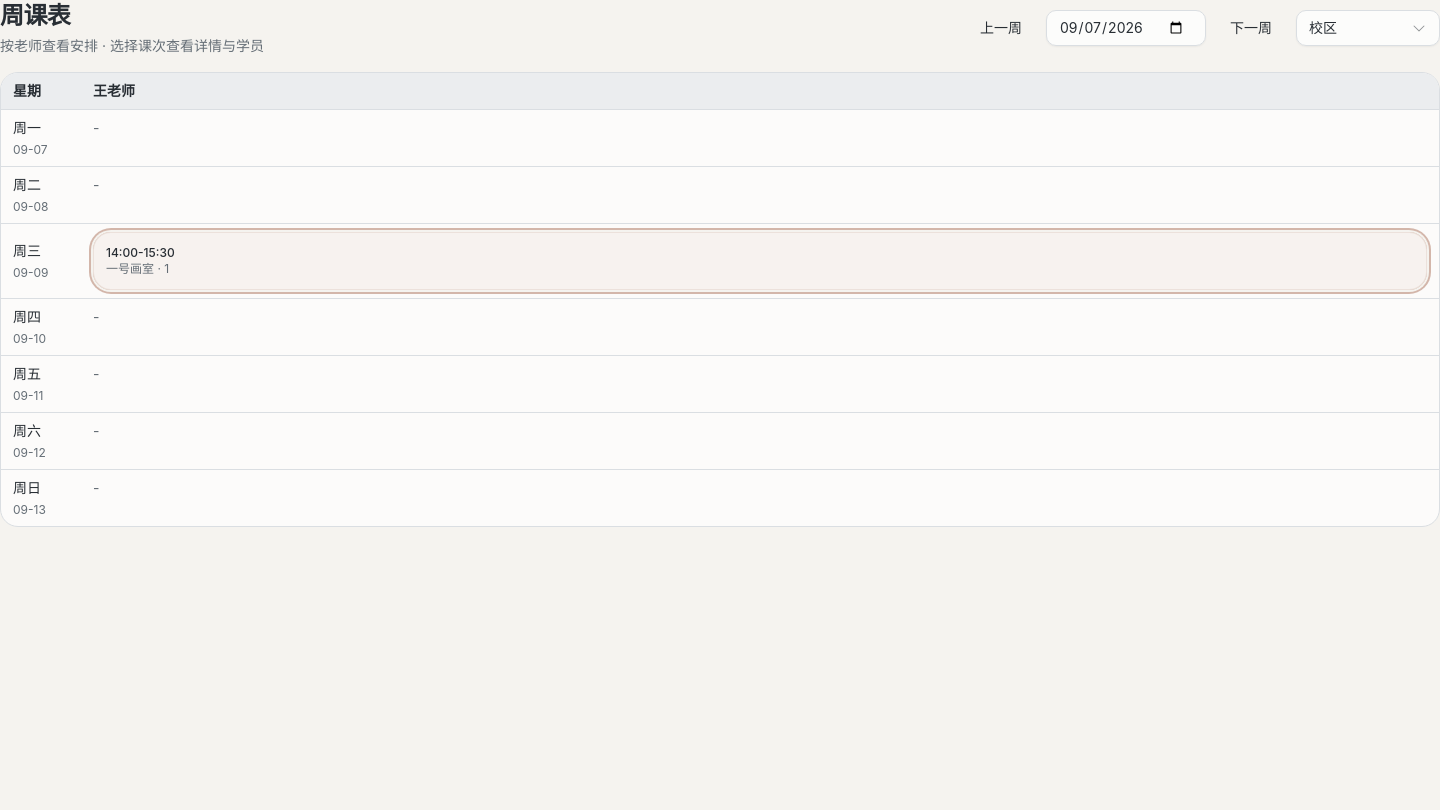
Test: teacher weekly schedule selection › opens the chosen lesson by keyboard and reads only its roster
The width and height of the screenshot is (1440, 810).
Step 1. Press Enter
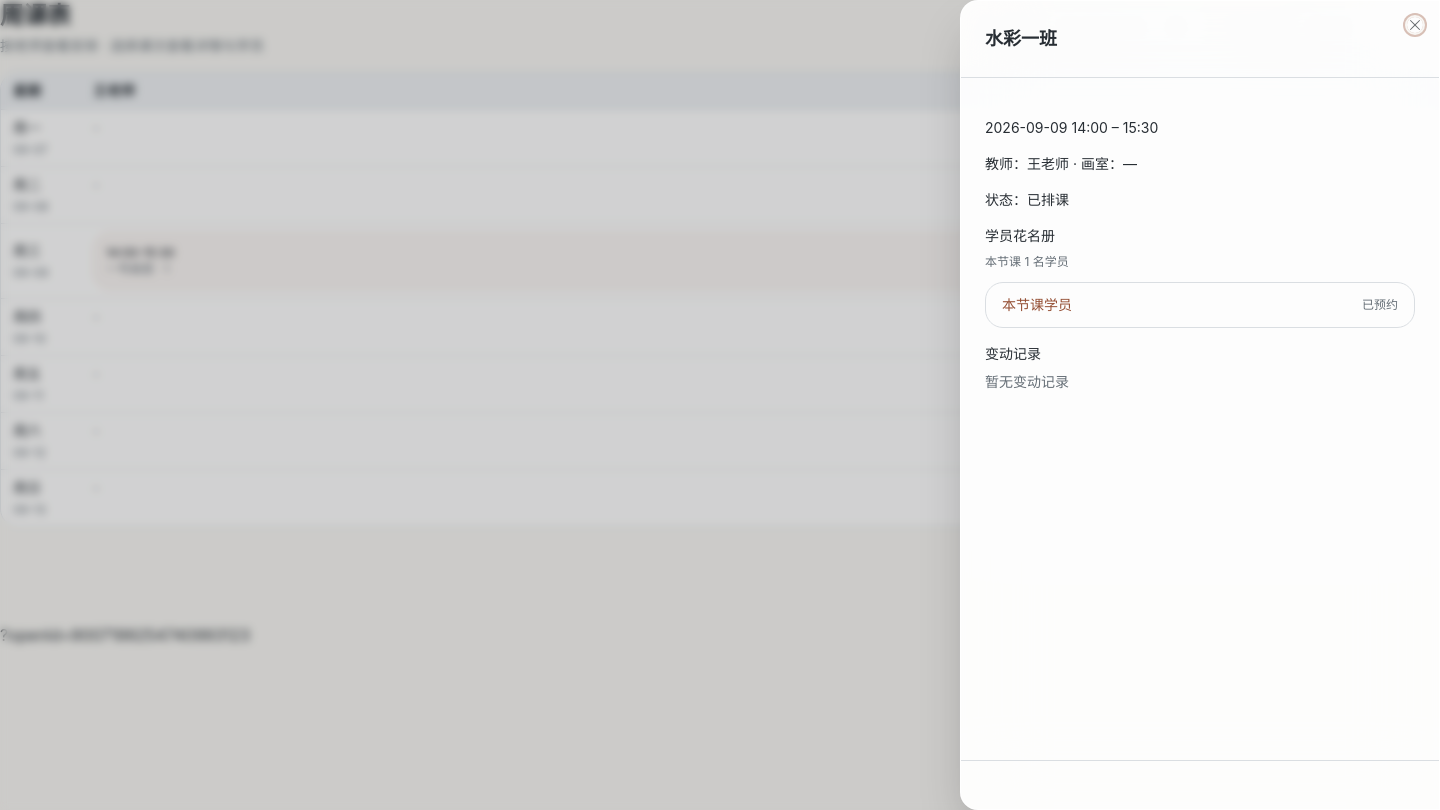
Check: the dialog "水彩一班" is shown, box x1=960 y1=0 x2=1439 y2=809
Check: the link "本节课学员" is shown, box x1=1002 y1=295 x2=1072 y2=315
Step 2. Click the button named "关闭" → coordinates (1415, 25), box x1=1407 y1=17 x2=1423 y2=33
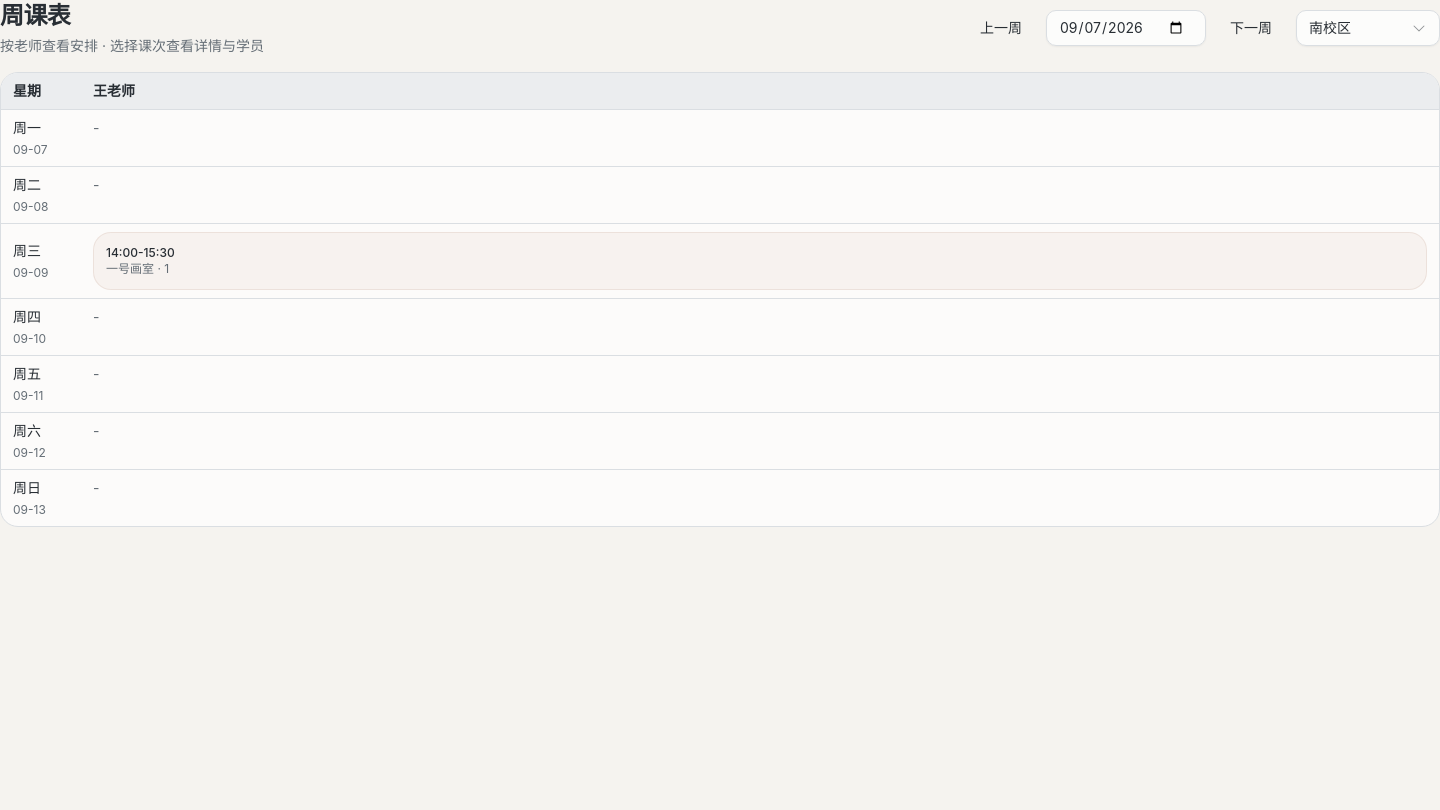
Check: the dialog is gone
